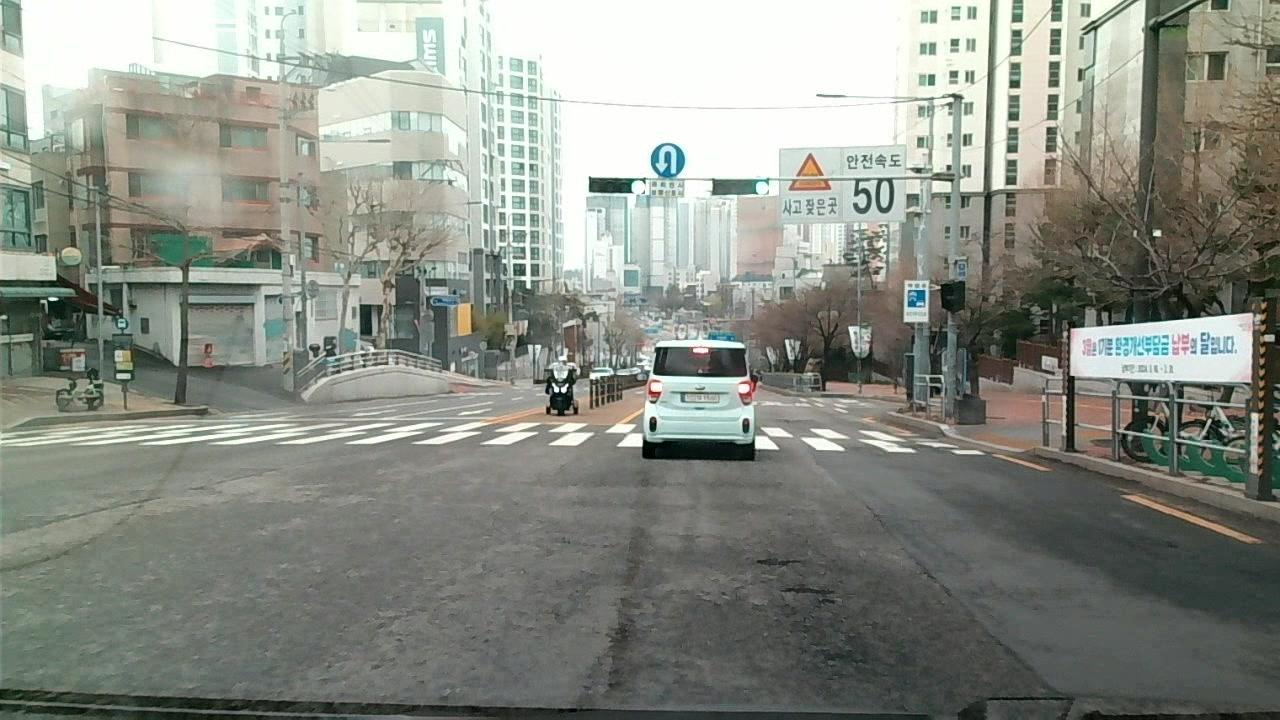erosion: (745, 547, 897, 719)
vcrack: (953, 597, 1058, 687), (858, 492, 948, 588), (596, 544, 640, 708), (6, 495, 163, 539)
